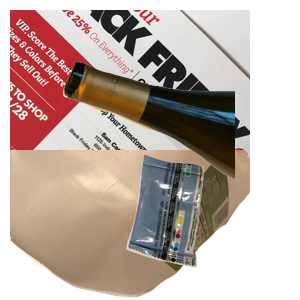glass: (60, 59, 300, 231)
paper: (10, 10, 250, 190)
plastic: (10, 150, 250, 300)
trash: (124, 152, 300, 300)
